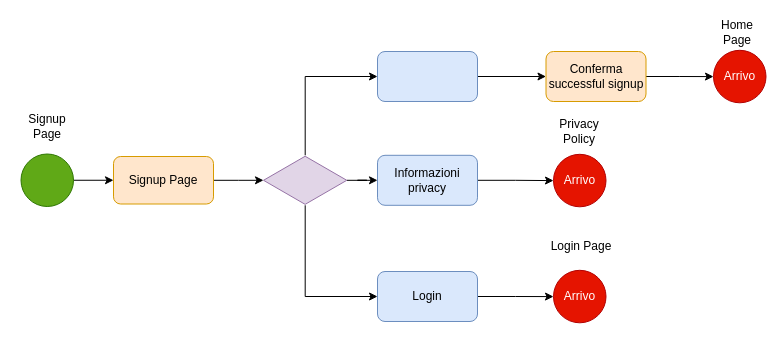
Some shapes in this 784 by 340 pixel diagram are drawn without their labels. The shapes that lost their labels are listed below. From the top down, each one's centre as x and y in pixels, then its label:
[427,76]: Fill del form e Submit
[47,179]: Inizio
[304,179]: Scelta
